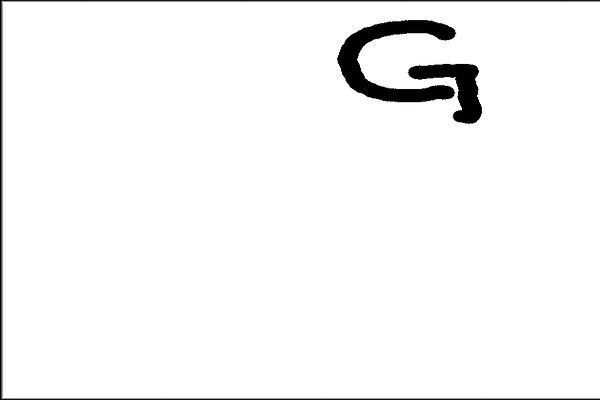G: (334, 13, 488, 129)
